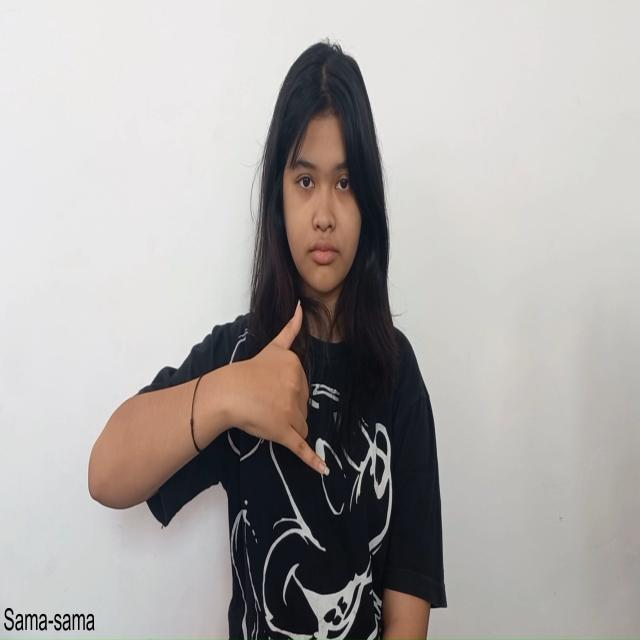Sama-sama -BISINDO-: (216, 295, 332, 478)
